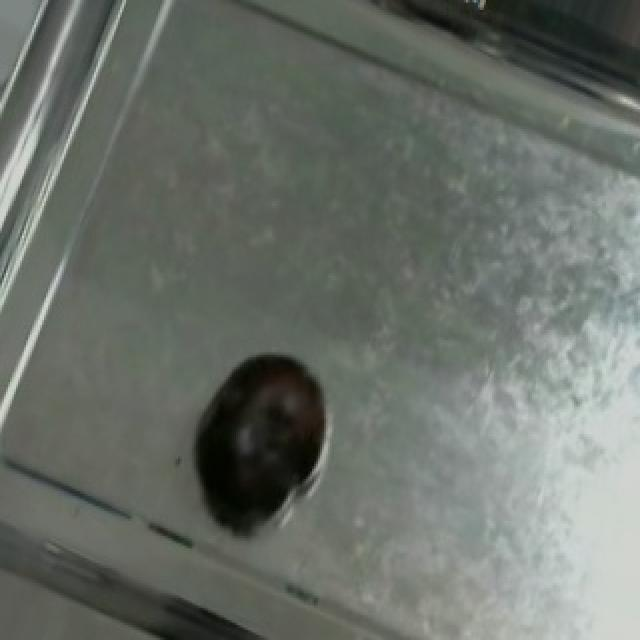Fruit: (188, 335, 346, 536)
